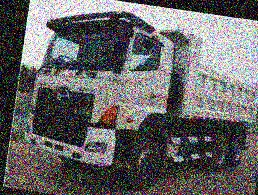truck: (16, 0, 258, 195)
